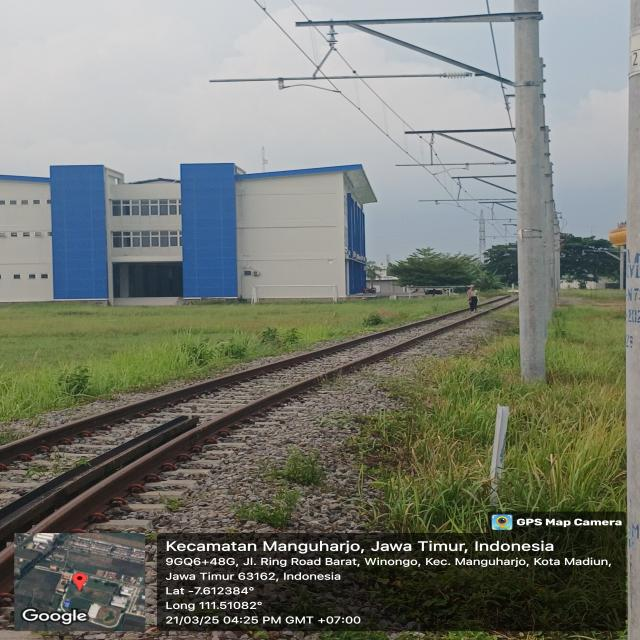rail-detection: (0, 295, 516, 590)
